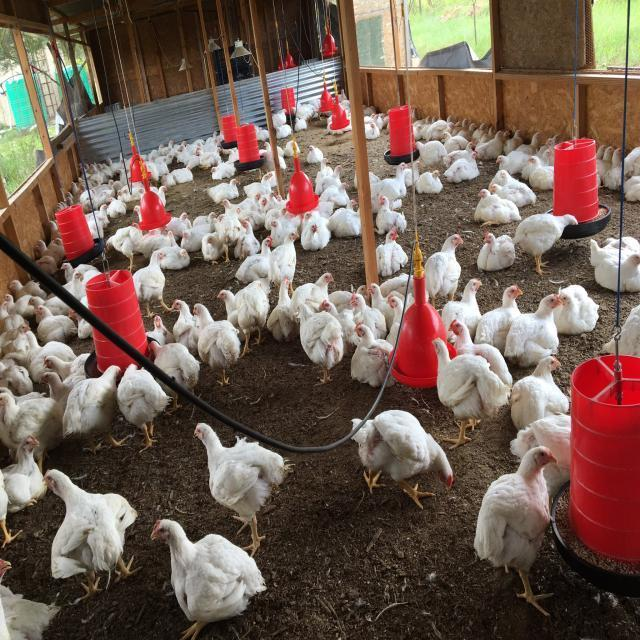poussin: (148, 510, 266, 631), (472, 448, 560, 608), (192, 419, 296, 550), (345, 408, 460, 512), (42, 470, 142, 586), (430, 341, 505, 428), (62, 363, 125, 442), (508, 356, 569, 431), (114, 355, 165, 440), (448, 317, 514, 380), (509, 293, 564, 364), (517, 212, 578, 275), (192, 302, 240, 381), (298, 300, 348, 374), (215, 282, 270, 347), (582, 236, 640, 297), (0, 386, 55, 448), (0, 436, 38, 525), (425, 232, 468, 303), (478, 282, 528, 342), (44, 348, 105, 396), (144, 336, 199, 388), (353, 324, 399, 385), (544, 284, 596, 330), (446, 279, 484, 336), (135, 250, 167, 317), (271, 277, 304, 339), (22, 340, 78, 376), (473, 228, 519, 271), (485, 166, 532, 205), (236, 238, 274, 286), (474, 184, 516, 226), (298, 270, 339, 312), (106, 226, 146, 267), (34, 305, 76, 344), (270, 232, 300, 284), (0, 352, 33, 397), (167, 297, 197, 346), (370, 162, 410, 198), (348, 290, 383, 331), (376, 225, 408, 269), (376, 194, 406, 233), (527, 154, 560, 188), (363, 278, 389, 320), (477, 128, 511, 160), (445, 152, 479, 184), (331, 199, 359, 236), (388, 292, 407, 345), (158, 234, 188, 267), (0, 323, 29, 356), (493, 150, 536, 172), (7, 277, 46, 301), (202, 234, 232, 265), (302, 218, 331, 250), (61, 260, 103, 282), (28, 294, 74, 314), (625, 144, 640, 201), (608, 145, 628, 187), (415, 168, 446, 195), (66, 272, 88, 310), (5, 292, 31, 324), (144, 311, 168, 345), (206, 178, 240, 202), (444, 142, 477, 166), (596, 146, 616, 185), (271, 219, 299, 246), (218, 198, 252, 220), (238, 218, 258, 255), (212, 220, 244, 243), (321, 179, 348, 206), (190, 210, 220, 233), (245, 172, 273, 196), (179, 228, 207, 252), (415, 142, 447, 162), (139, 228, 165, 252), (428, 115, 455, 138), (36, 240, 63, 263), (144, 153, 167, 180), (240, 189, 262, 216), (412, 115, 437, 138), (166, 212, 191, 235), (300, 211, 338, 226), (320, 164, 348, 184), (32, 254, 58, 275), (90, 205, 108, 234), (55, 191, 81, 211), (250, 196, 269, 223), (442, 130, 466, 151), (106, 196, 128, 218), (206, 162, 236, 178), (268, 206, 289, 228), (169, 166, 195, 183), (524, 131, 545, 152), (48, 219, 62, 250), (100, 178, 118, 202), (318, 156, 332, 186), (163, 141, 185, 160), (260, 140, 276, 166), (83, 185, 97, 214), (506, 130, 524, 152), (452, 118, 471, 138), (366, 111, 388, 128), (548, 134, 562, 160), (90, 162, 108, 181), (306, 144, 323, 164), (297, 102, 317, 119), (152, 183, 168, 204), (158, 170, 176, 188), (364, 120, 380, 140), (274, 124, 294, 140), (195, 148, 211, 168), (181, 140, 197, 160), (272, 109, 288, 128), (282, 140, 300, 156), (255, 126, 273, 142), (68, 178, 86, 194), (200, 136, 218, 152), (538, 136, 552, 155), (472, 124, 488, 140), (132, 203, 142, 228), (208, 146, 220, 165), (109, 156, 121, 175), (186, 154, 200, 170), (484, 126, 497, 141), (464, 122, 476, 137), (294, 118, 306, 132), (228, 146, 240, 160), (40, 459, 49, 462)
